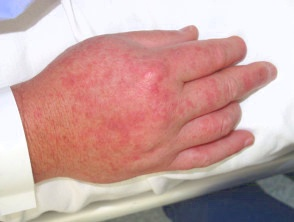SJS-TEN: (0, 10, 294, 199)
